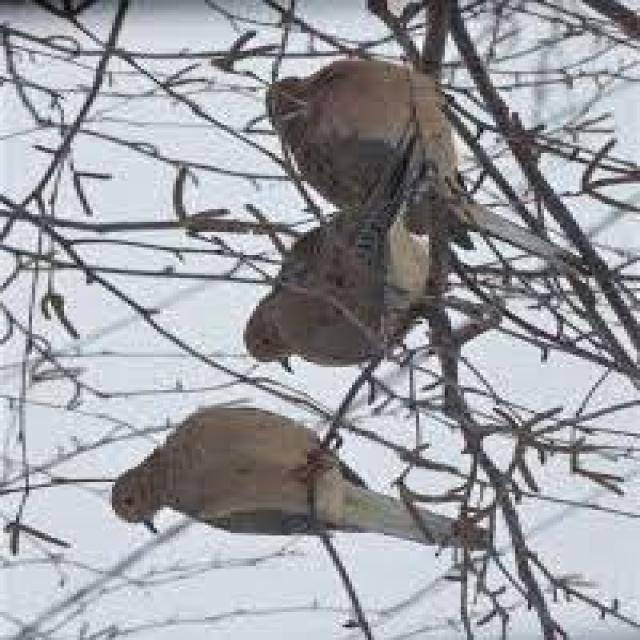pigeon: (93, 372, 521, 586)
